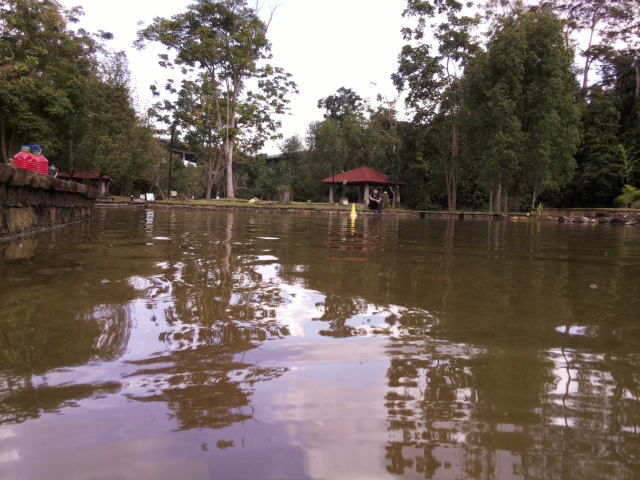checkpoint: (348, 203, 359, 218)
